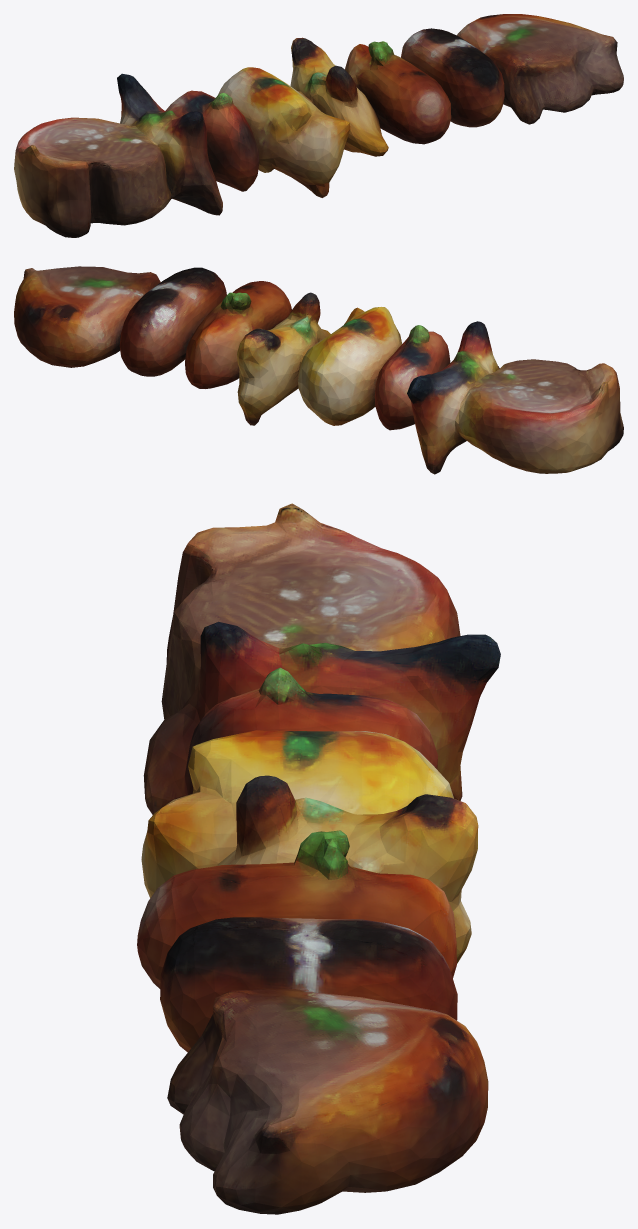
Rendered from misto.glb.
The picture shows the model from 3 angles, top to bottom: view 1: azimuth 30°, elevation 25°; view 2: azimuth 150°, elevation 25°; view 3: azimuth 270°, elevation 25°; orthographic projection. The views are drawn at different scales.
Visible parts, largest first — view 1: geometry_0; view 2: geometry_0; view 3: geometry_0.
Part boxes in pixels (<box>): geometry_0: <box>14,14,623,237</box>; geometry_0: <box>14,266,623,474</box>; geometry_0: <box>137,503,500,1214</box>.
Size of the model in its own units: 0.9998 by 0.177 by 0.2701.
1 material, 1 textured.
